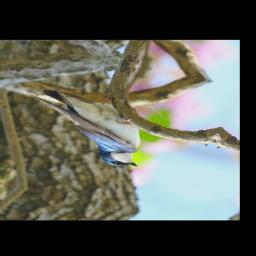Swallow: (6, 78, 166, 171)
